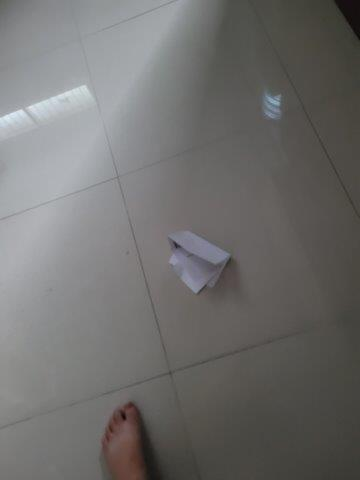kertas: (164, 231, 231, 294)
